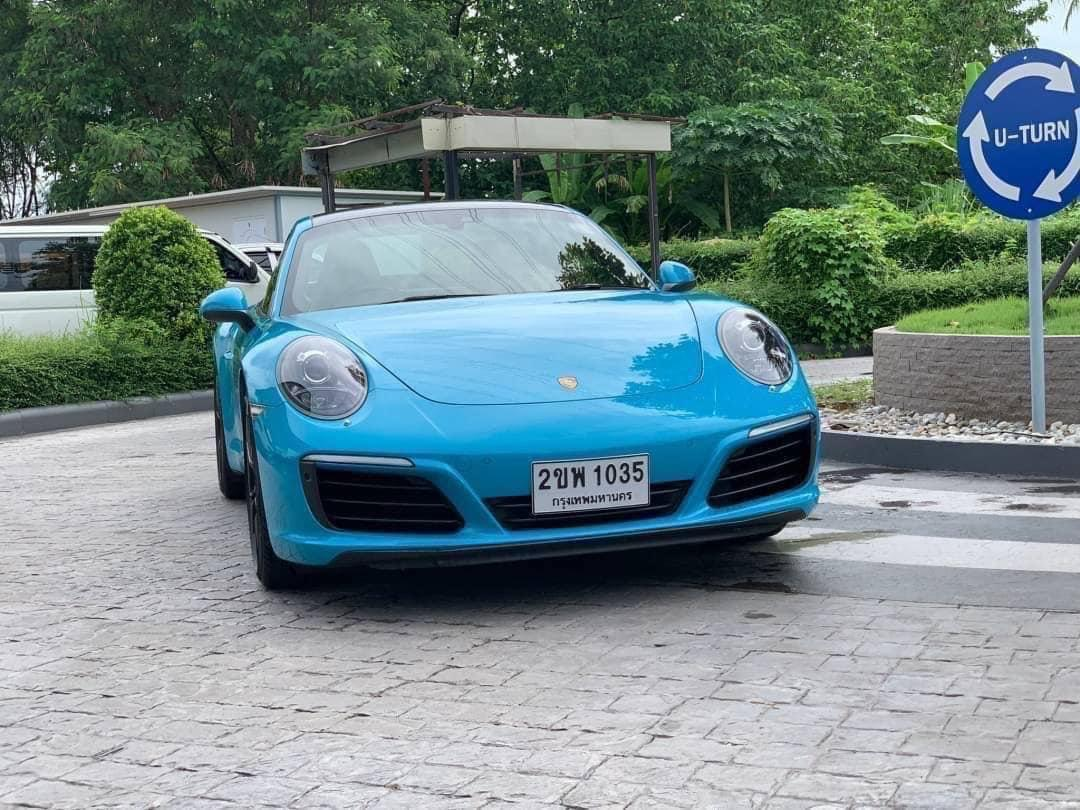license-plate: (524, 448, 658, 522)
